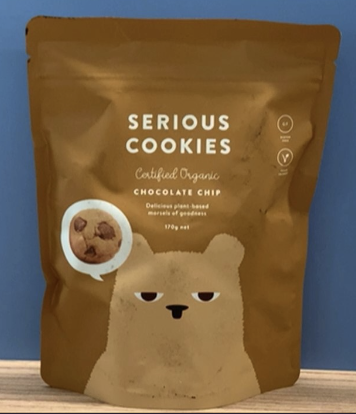cookies_100g-199g: (66, 112, 299, 357)
